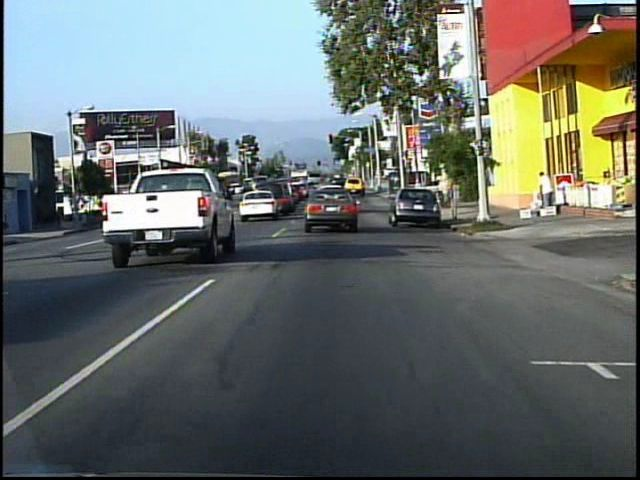person: (533, 166, 555, 209)
